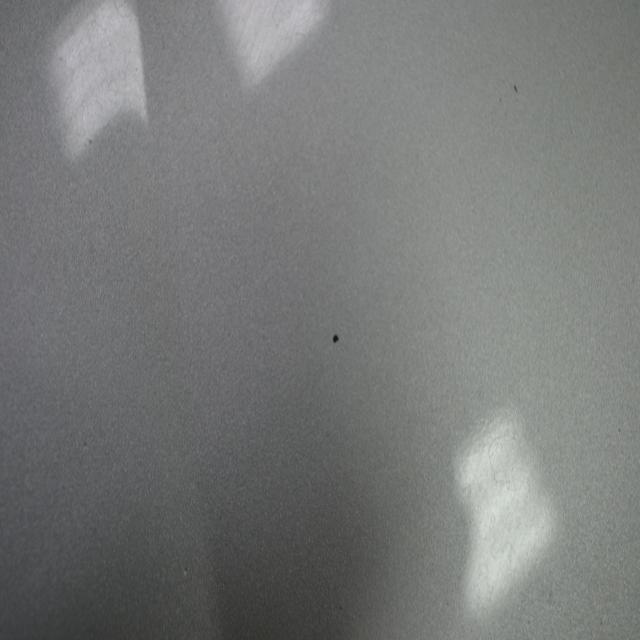dirt: (331, 328, 341, 346), (511, 81, 520, 96)
